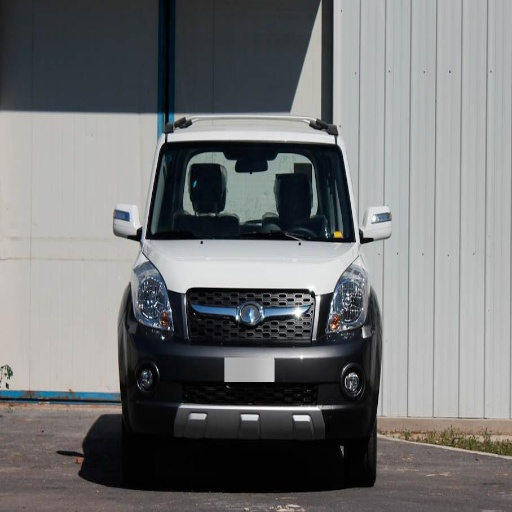front_bumper: (119, 289, 373, 439)
front_glass: (150, 146, 353, 240)
front_right_light: (128, 261, 173, 330)
hood: (145, 242, 355, 293)
